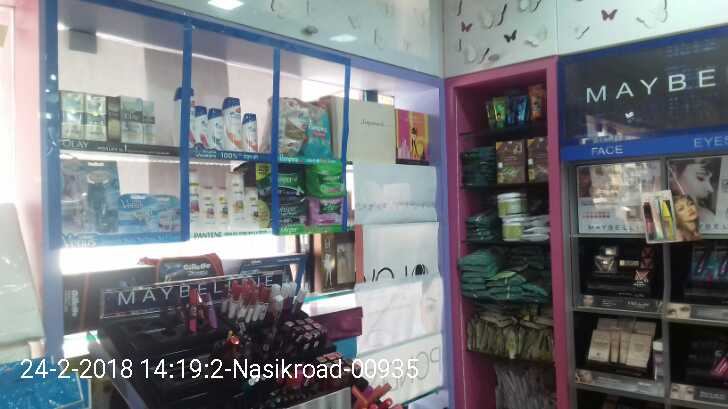venus: (81, 164, 117, 232), (149, 194, 187, 231), (119, 193, 150, 231)
